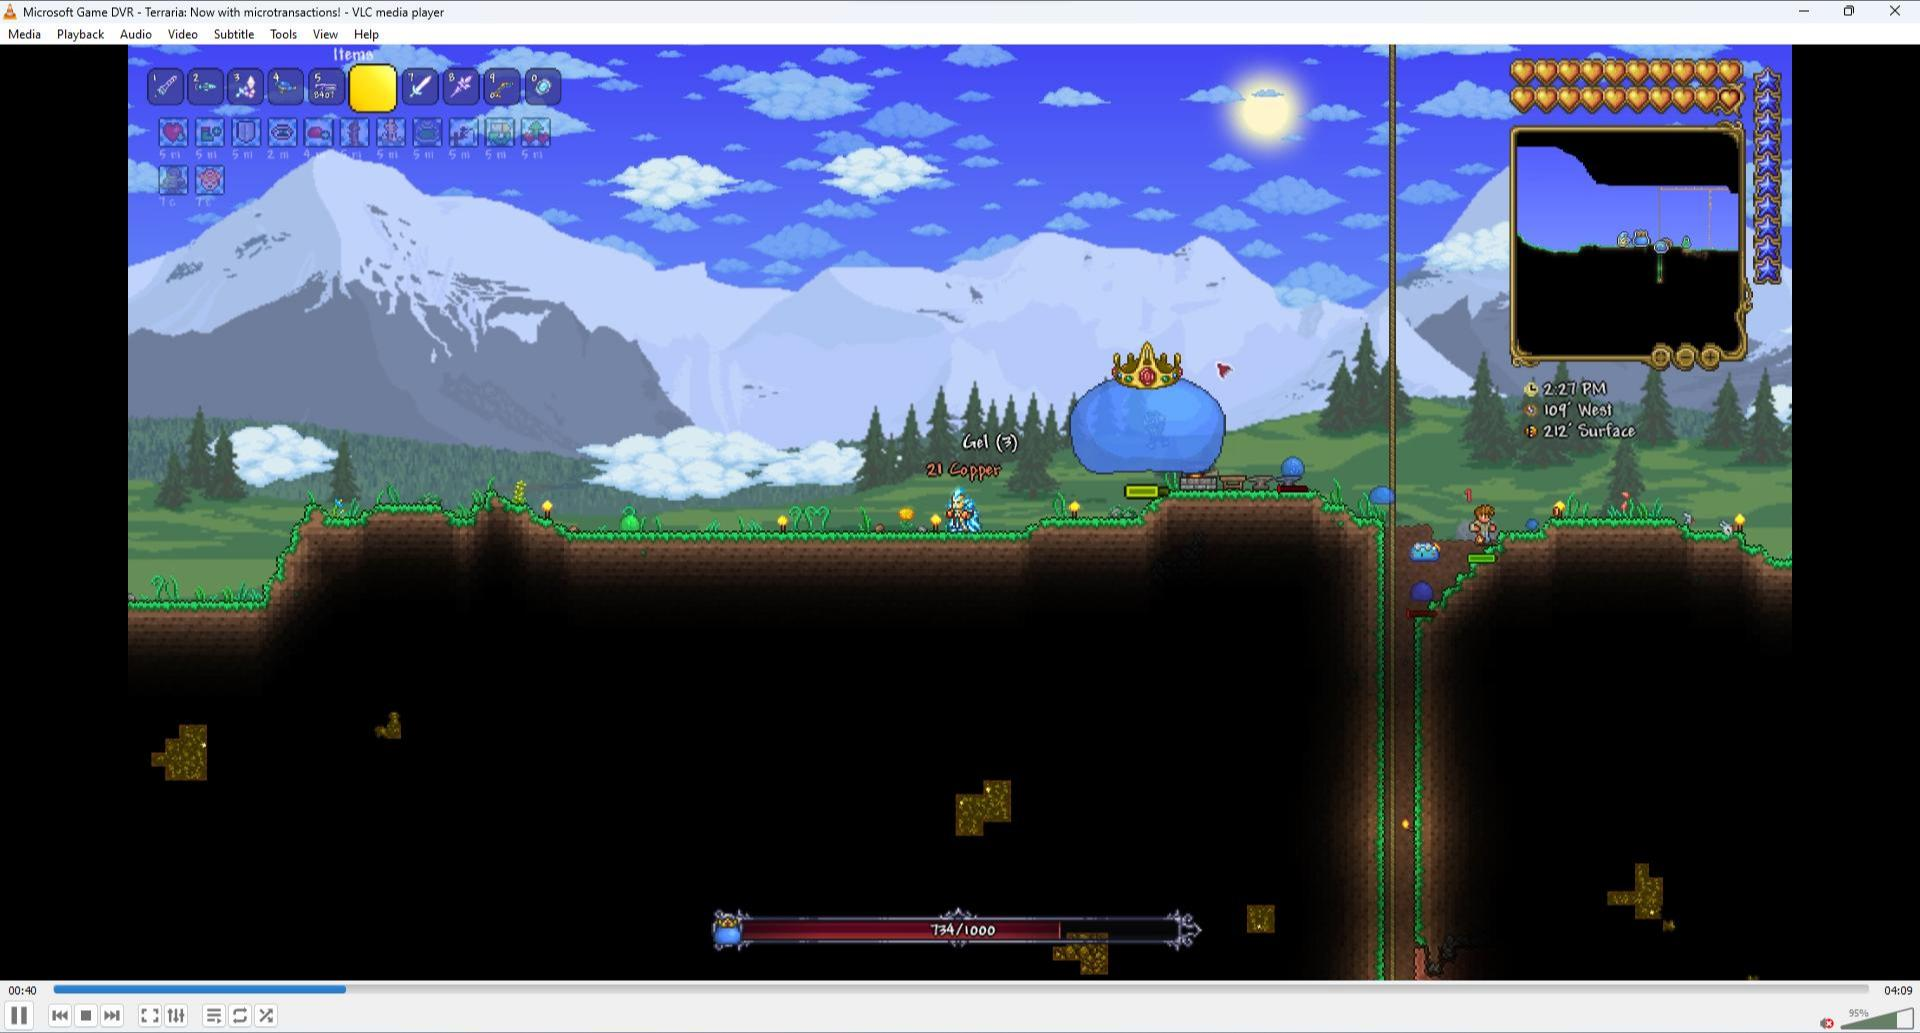slime: (1369, 480, 1400, 508), (613, 508, 642, 536), (1283, 448, 1308, 477)
